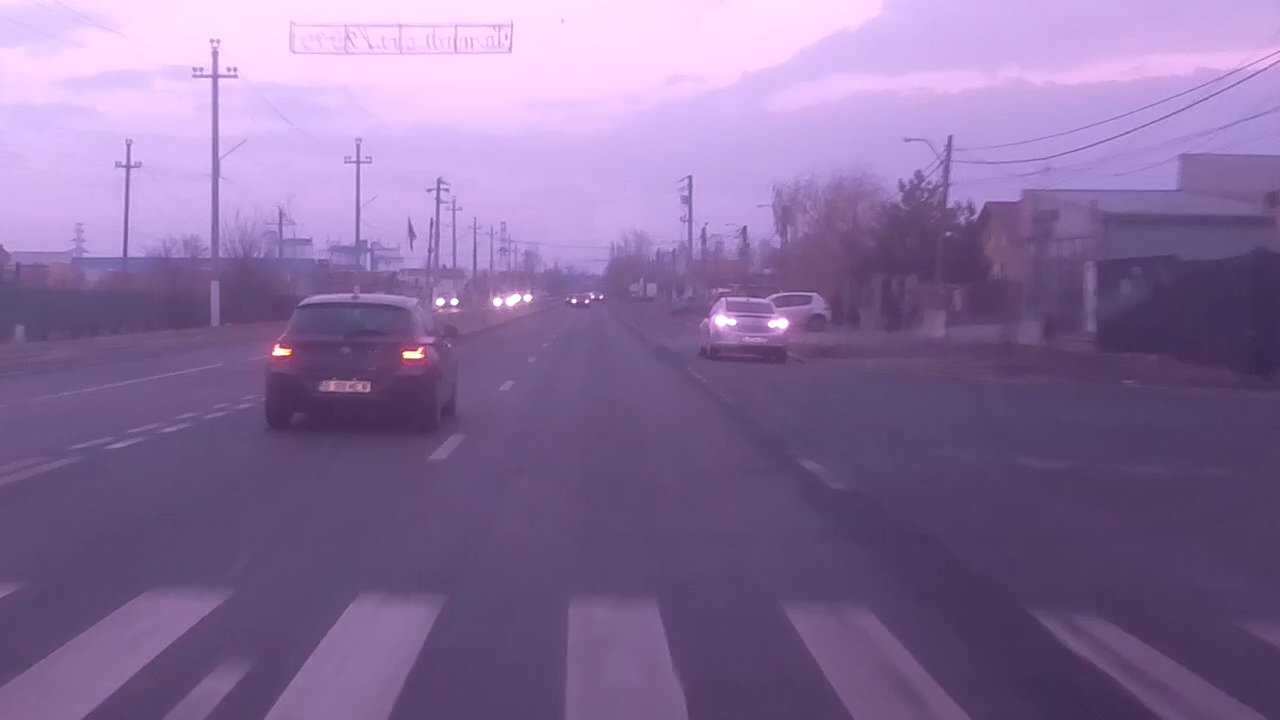license-plate: (311, 376, 375, 395)
